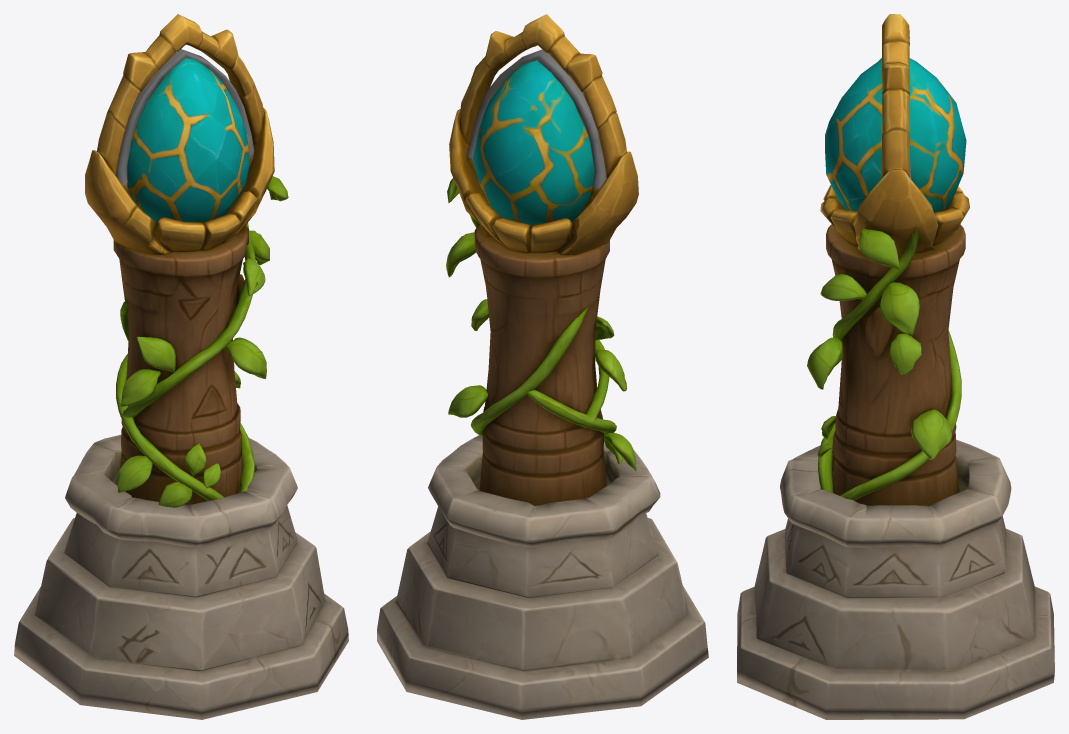
File: jungle-expedition-beacon.glb
3 views of the same model, side by side, from view 1: azimuth 30°, elevation 25°; view 2: azimuth 150°, elevation 25°; view 3: azimuth 270°, elevation 25° (orthographic).
Parts seen in each view (by area): view 1: geometry_0; view 2: geometry_0; view 3: geometry_0.
Boxes of the visible parts, x1=… form: geometry_0: x1=14, y1=14, x2=348, y2=719; geometry_0: x1=377, y1=14, x2=708, y2=719; geometry_0: x1=737, y1=14, x2=1054, y2=719.
Size of the model in its own units: 0.4194 by 0.9507 by 0.4282.
Materials: 1 (1 with a texture image).
